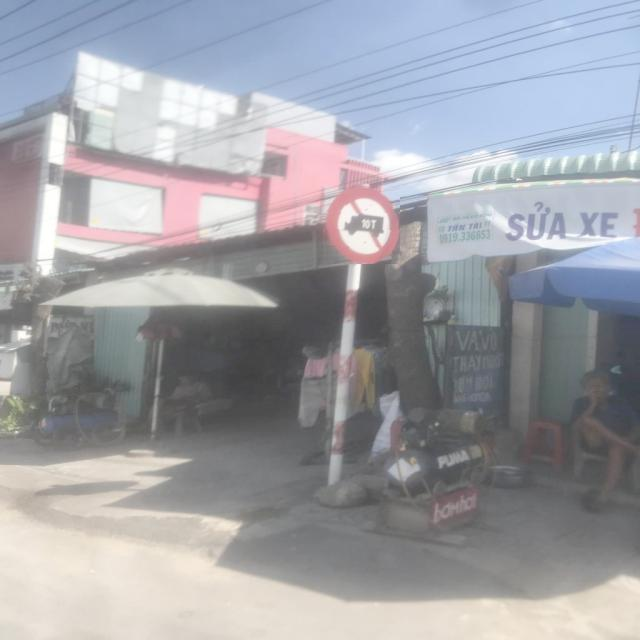cam_o_to_tai_trong_luong_qua_10t: (322, 186, 400, 264)
